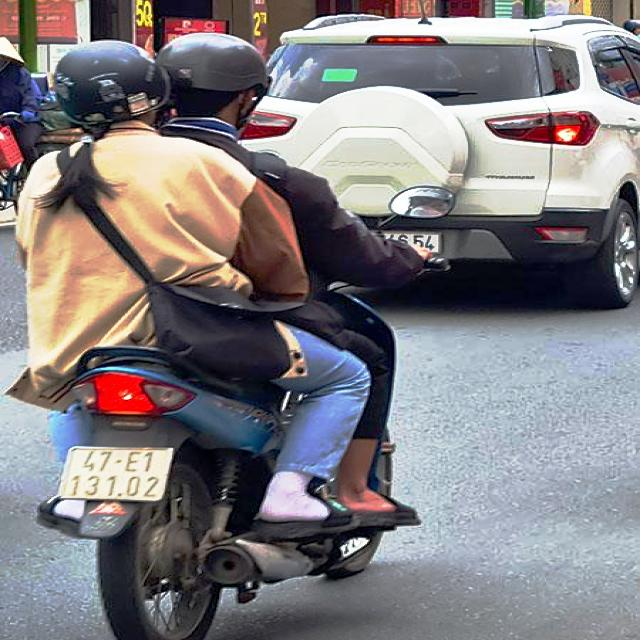license_plate: (61, 443, 175, 502)
